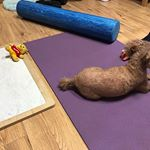puppy: (53, 39, 150, 103)
